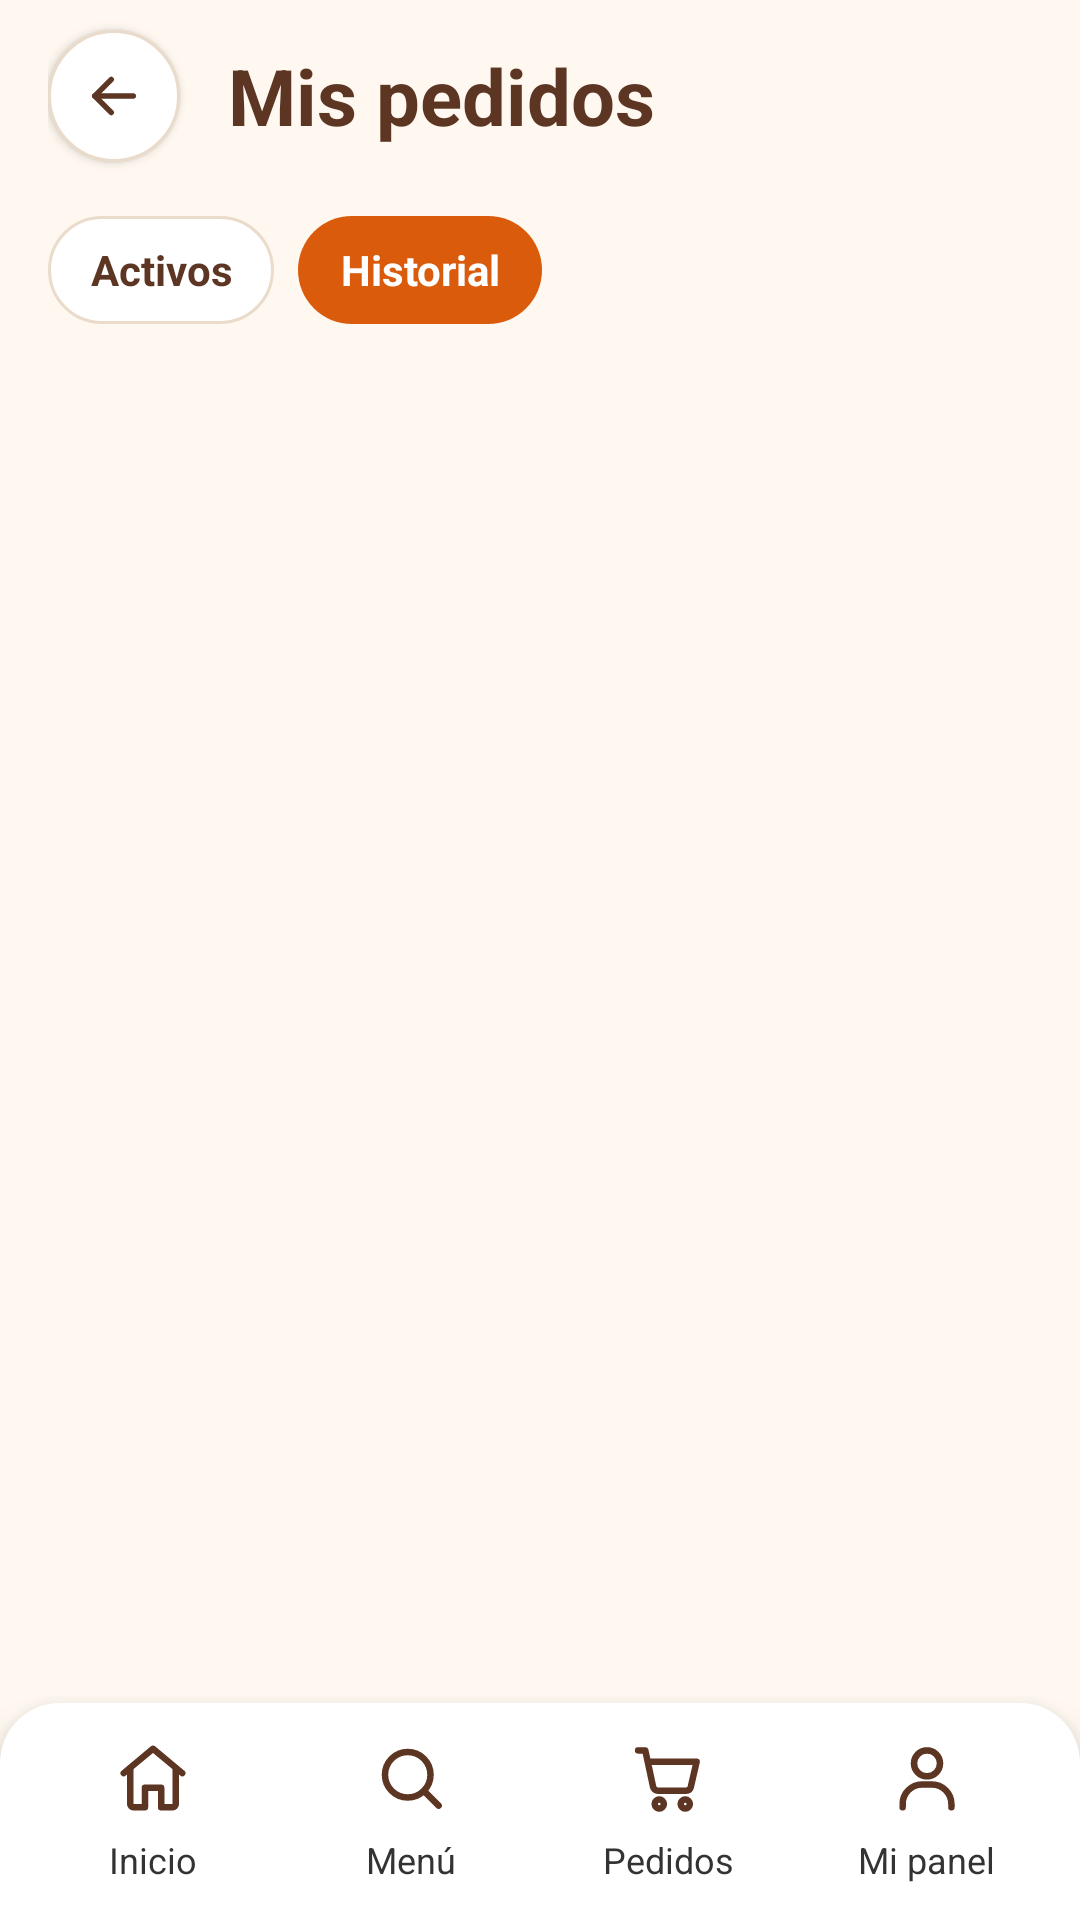

Point at icon controls on the screen. Image size 1080px×1920px, points as (x,y).
atras: (114,96)
